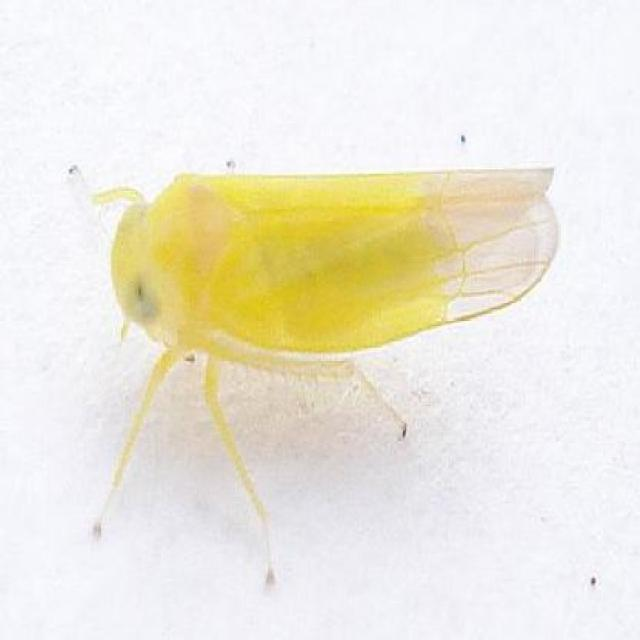green-leafhopper: (106, 163, 559, 372)
